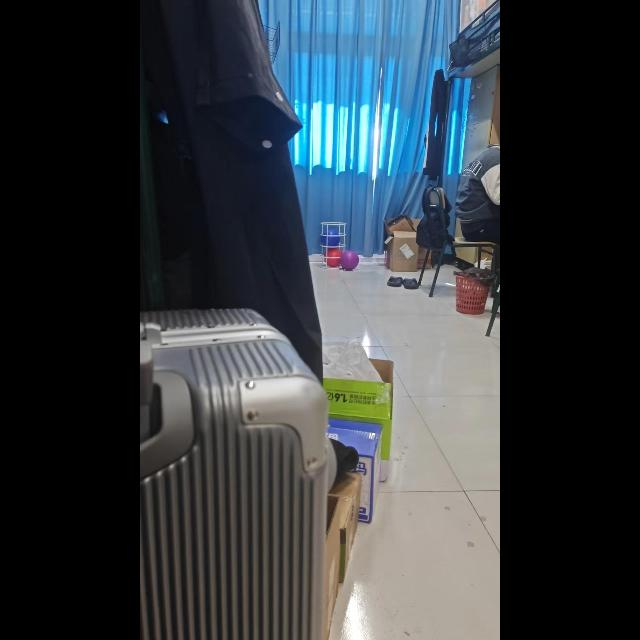B: (321, 227, 343, 245)
P: (338, 248, 360, 272)
R: (324, 247, 344, 266)
S: (320, 216, 346, 268)
